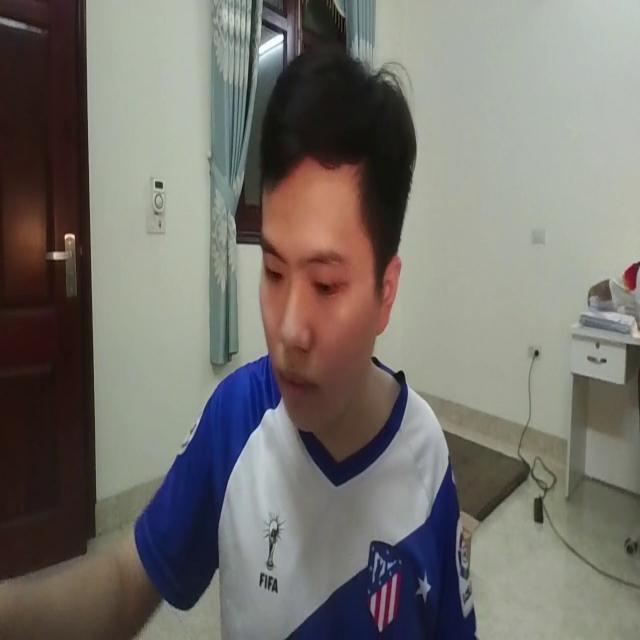student: (123, 40, 497, 640)
